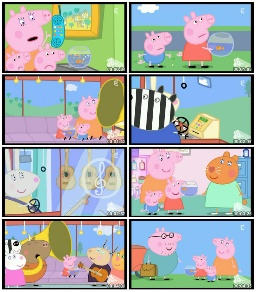Peppa: (179, 12, 215, 70), (162, 180, 188, 215), (31, 45, 64, 72), (51, 113, 73, 140), (190, 254, 207, 282), (59, 253, 78, 278)
